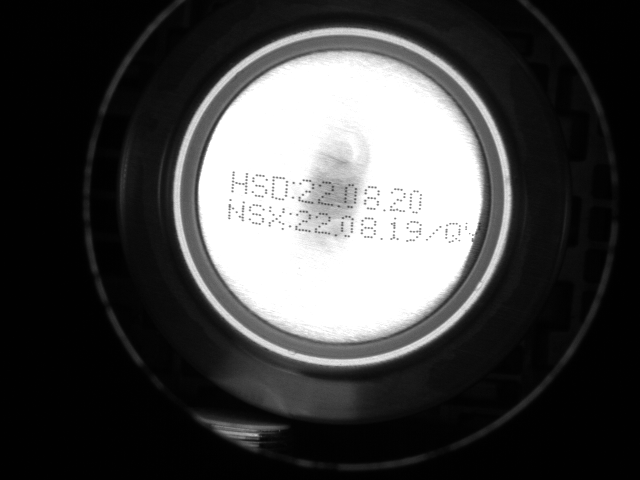/: (425, 220, 444, 244)
0: (335, 213, 360, 239), (407, 187, 426, 215), (340, 182, 359, 209)
1: (384, 216, 401, 243)
2: (382, 183, 407, 213), (316, 179, 340, 210), (294, 175, 317, 204), (293, 208, 316, 233), (315, 211, 333, 236)
8: (359, 216, 383, 241), (363, 184, 382, 211)
9: (405, 219, 424, 246)
D: (271, 173, 293, 199)
H: (227, 170, 248, 194)
N: (222, 199, 247, 225)
Q: (443, 222, 464, 246)
S: (248, 169, 271, 198), (247, 203, 267, 228)
X: (268, 204, 287, 229)
Y: (463, 219, 484, 244)
